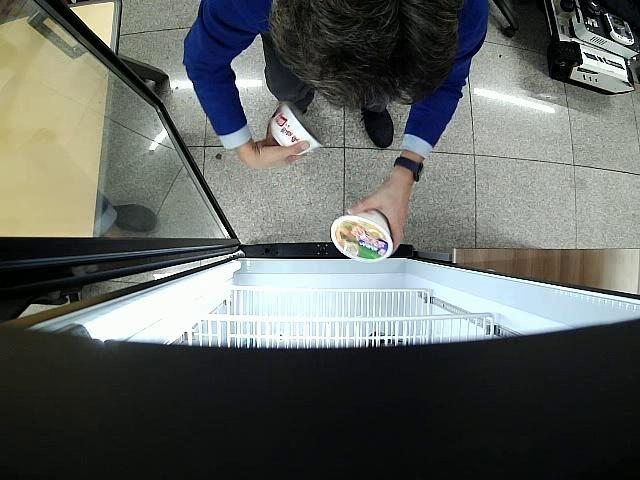09_yukGaeJang: (331, 209, 394, 263), (272, 102, 325, 154)
